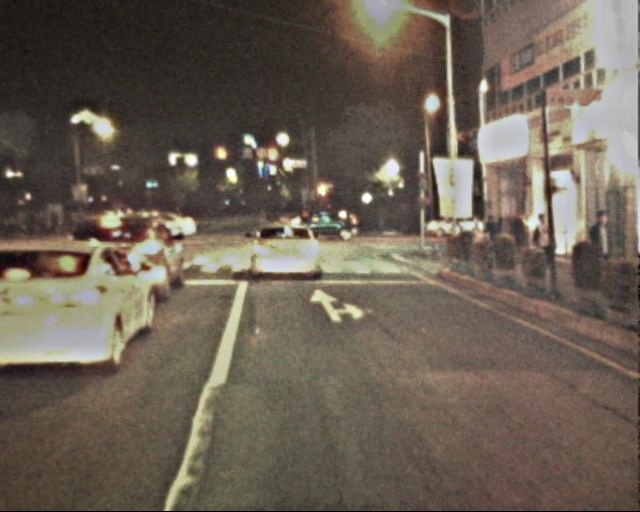person: (29, 202, 82, 237), (590, 210, 615, 283), (531, 212, 556, 273), (255, 206, 300, 227)
